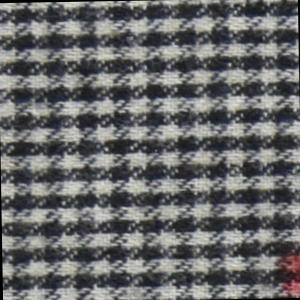Stain: (273, 247, 300, 298)
